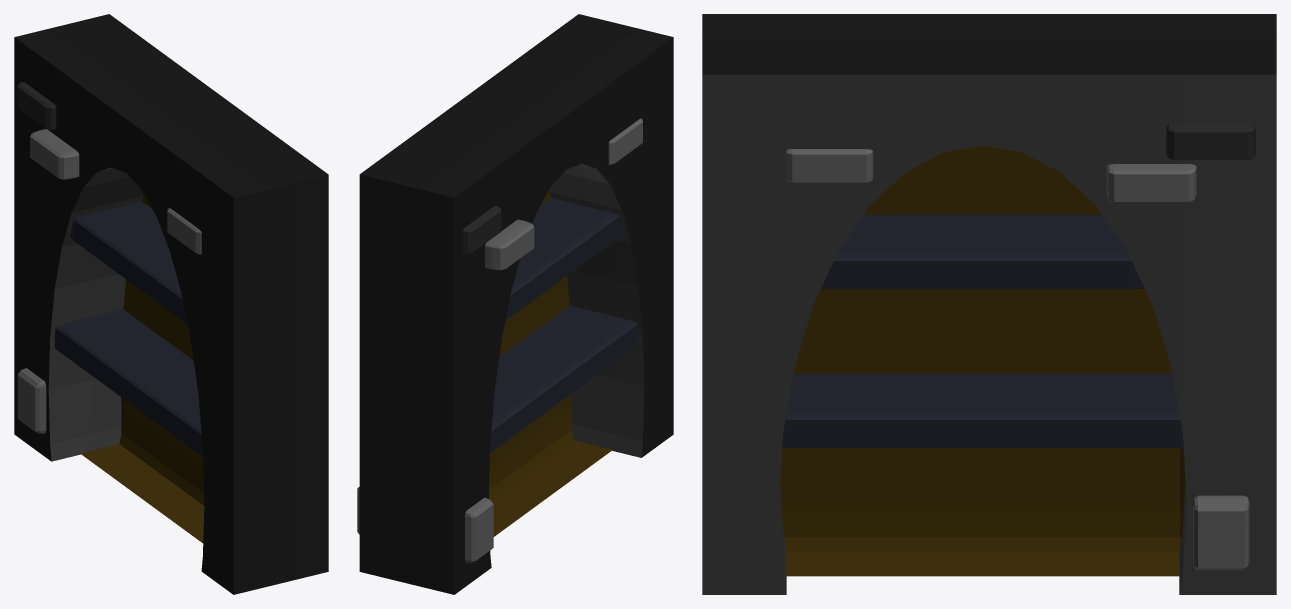
The model's file is reskined-door2.fbx.
3 renders of one model, left to right at view 1: azimuth 30°, elevation 25°; view 2: azimuth 150°, elevation 25°; view 3: azimuth 270°, elevation 25°, orthographic. The views are drawn at different scales.
Visible parts, largest first — view 1: door2; view 2: door2; view 3: door2.
Part boxes in pixels (bbox=[...]): door2: bbox=[14, 14, 328, 594]; door2: bbox=[357, 14, 673, 594]; door2: bbox=[702, 14, 1276, 594].
Bounding box in the file's own units: 134 × 400 × 400.
